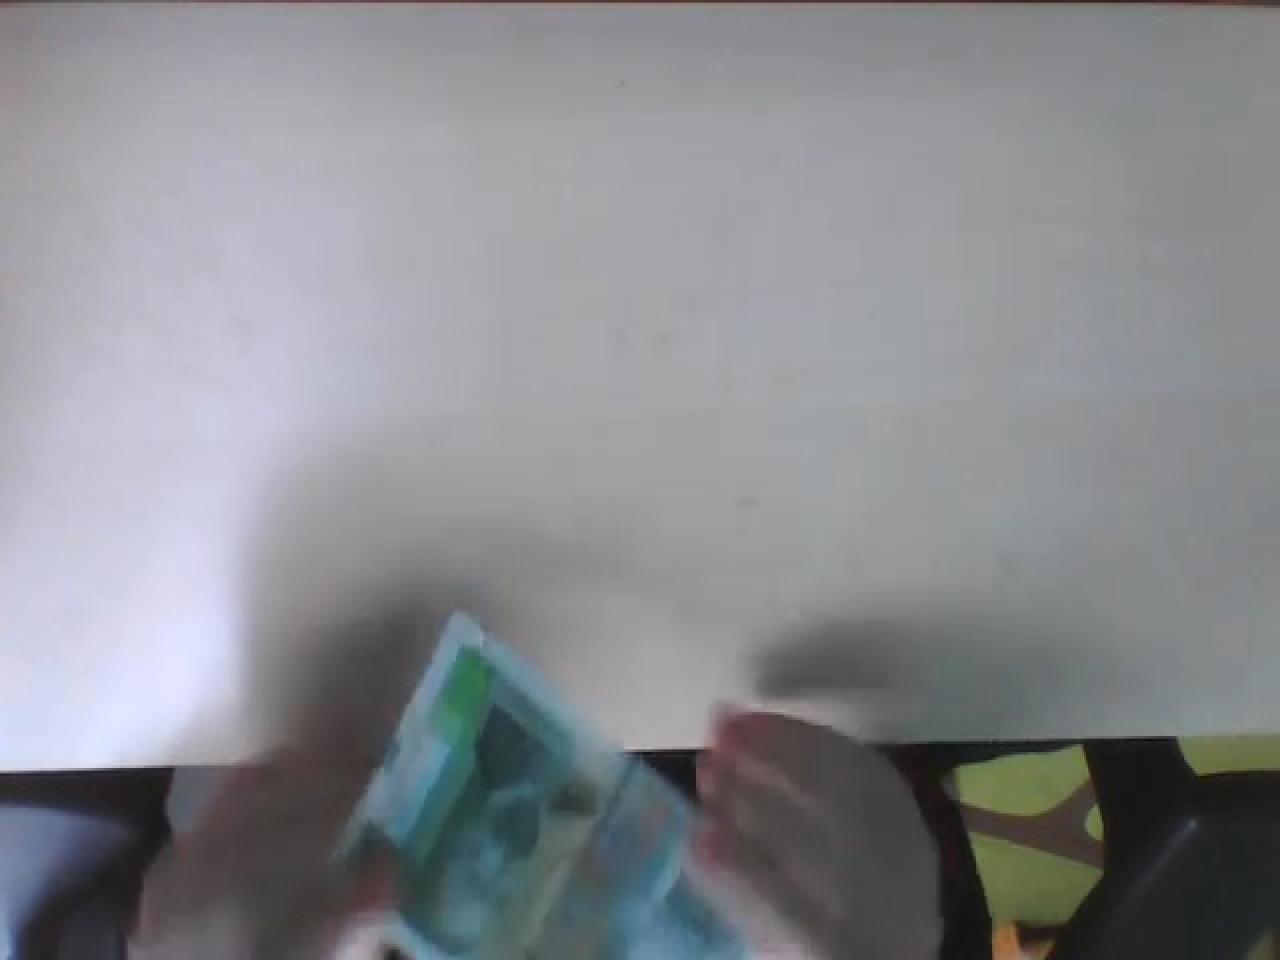100leva: (328, 611, 740, 960)
